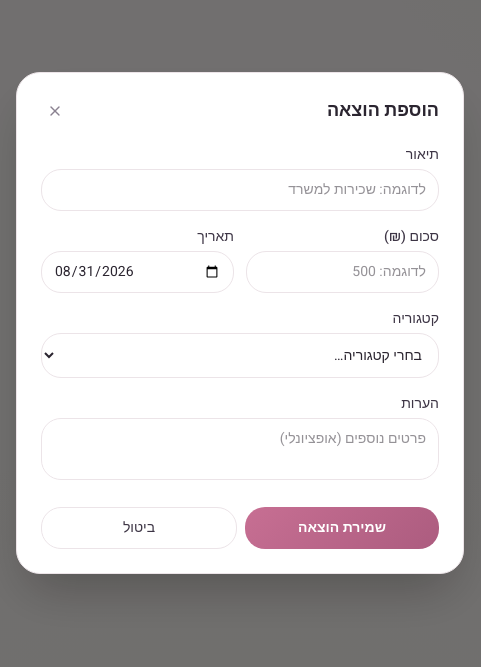
ExpenseFormModal › renders field-level validation errors and a form error from the action result
Click the button "שמירת הוצאה" at (342, 528), box left=245, top=507, right=439, bottom=549
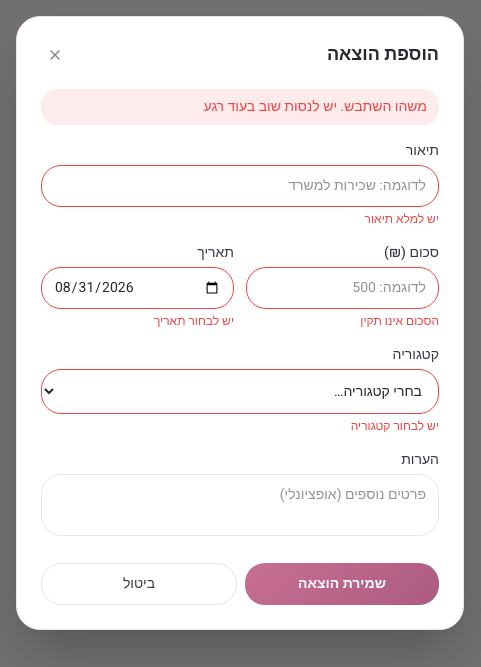
Expected: the text "משהו השתבש. יש לנסות שוב בעוד רגע" is shown, left=41, top=89, right=439, bottom=125
Expected: the text "יש למלא תיאור" is shown, left=365, top=210, right=439, bottom=228
Expected: the text "הסכום אינו תקין" is shown, left=360, top=312, right=439, bottom=330
